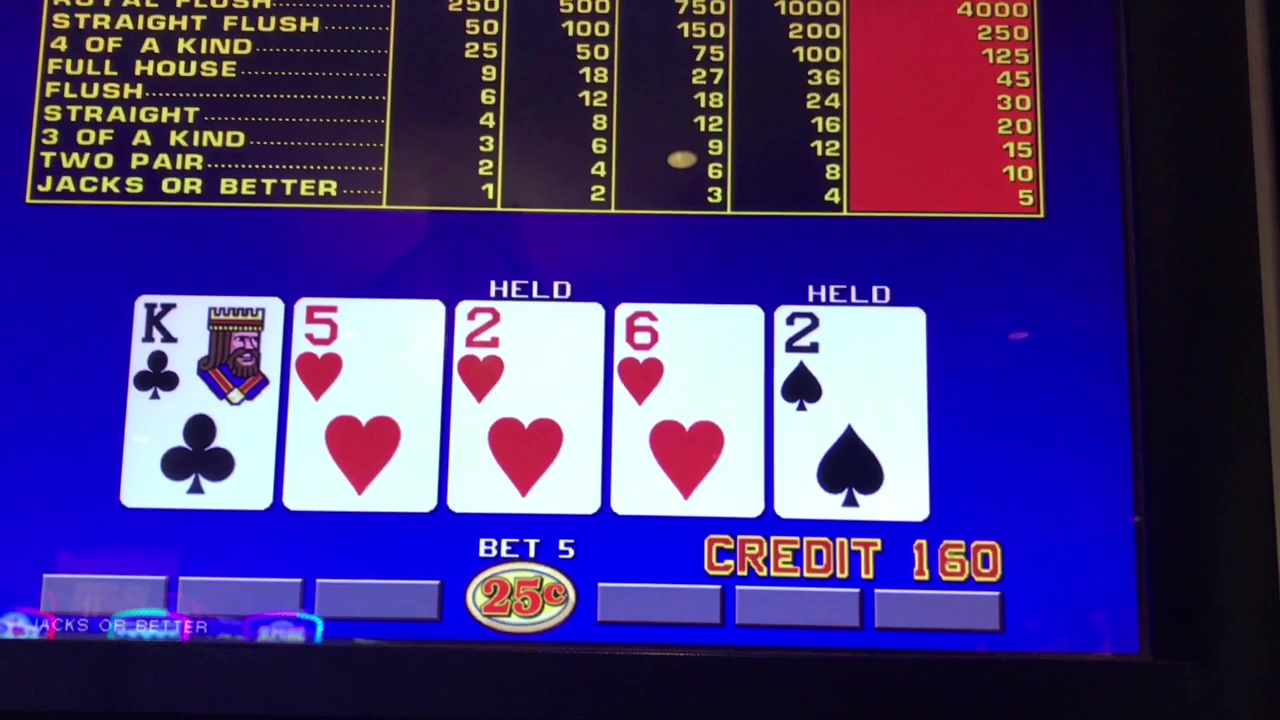CK: (141, 294, 267, 401)
H2: (458, 303, 595, 407)
H5: (297, 300, 432, 405)
H6: (616, 305, 760, 413)
S2: (778, 306, 921, 410)
